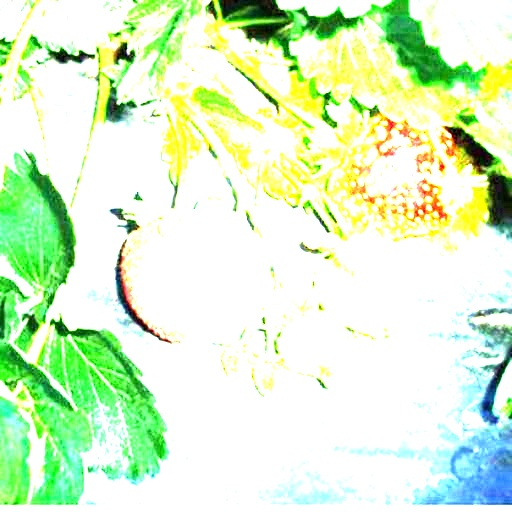Gray Mold: (120, 205, 267, 342)
